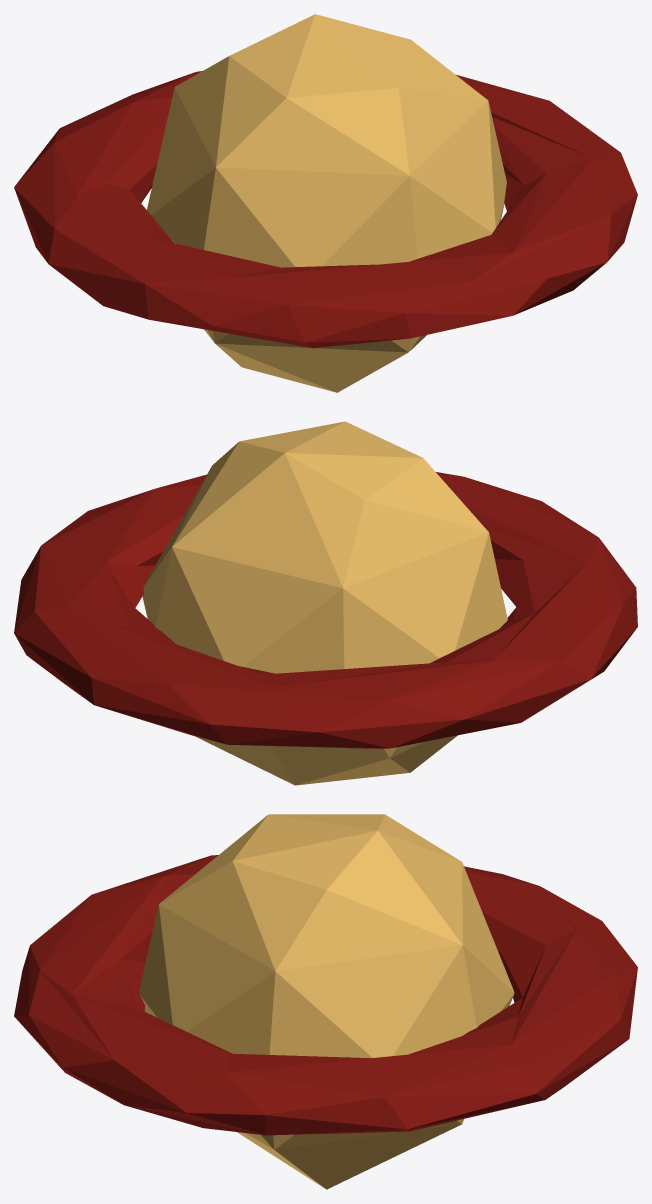
The model's file is planet3.fbx.
3 renders of one model, top to bottom at view 1: azimuth 30°, elevation 25°; view 2: azimuth 150°, elevation 25°; view 3: azimuth 270°, elevation 25°, orthographic.
Visible parts, largest first — view 1: Icosphere, Torus; view 2: Torus, Icosphere; view 3: Torus, Icosphere.
Boxes of the visible parts, box(x1,y1,x2,y2) form: Icosphere: box(147, 14, 506, 392); Torus: box(14, 71, 637, 348); Torus: box(14, 472, 637, 748); Icosphere: box(142, 421, 507, 785); Torus: box(14, 855, 637, 1135); Icosphere: box(139, 814, 514, 1189).
Size of the model in its own units: 499 by 298 by 498.
